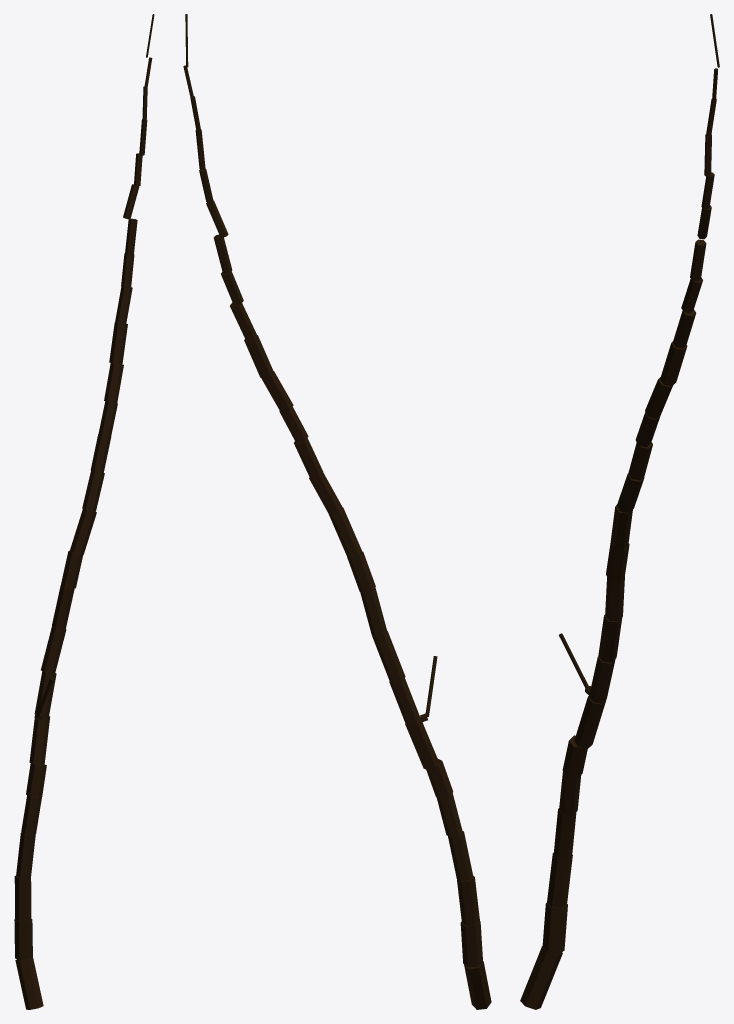
The model's file is tree_557_no_leaf.obj.
The picture shows the model from 3 angles, left to right: view 1: azimuth 30°, elevation 25°; view 2: azimuth 150°, elevation 25°; view 3: azimuth 270°, elevation 25°; orthographic projection. The views are drawn at different scales.
Parts seen in each view (by area): view 1: TrunkAndBranches; view 2: TrunkAndBranches; view 3: TrunkAndBranches.
Boxes of the visible parts, <box> form: TrunkAndBranches: <box>14,14,154,1009</box>; TrunkAndBranches: <box>183,14,491,1009</box>; TrunkAndBranches: <box>520,14,719,1009</box>.
Bounding box in the file's own units: 1.08 × 4.6 × 0.7517.
